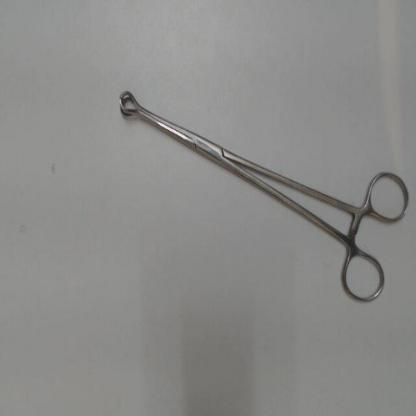8 Babcock Tissue Forceps: (110, 85, 411, 308)
